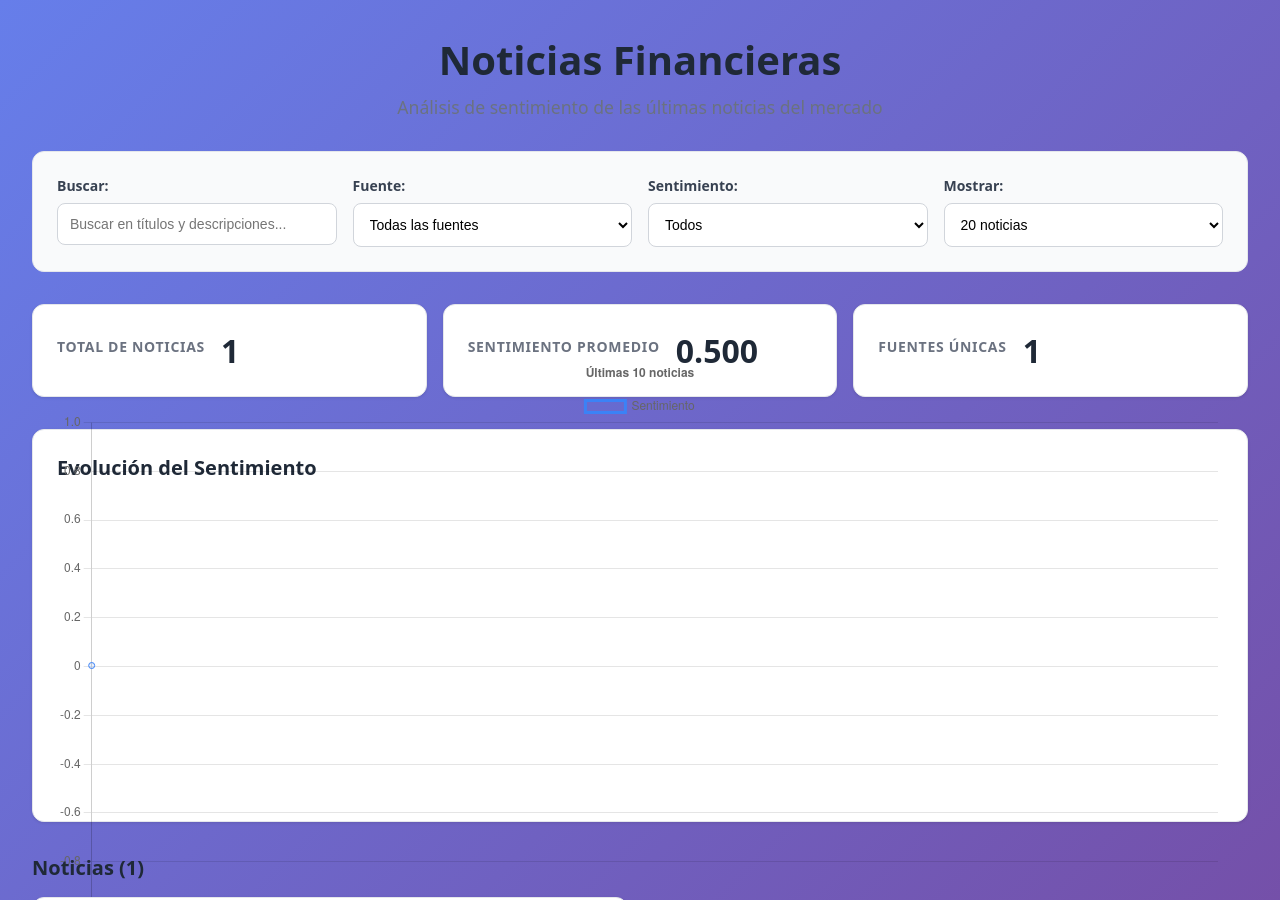
Test case: News Component › shows no results message when filters return empty
Type "NonExistentTerm" into the field with placeholder "Buscar en títulos y descripciones..." at x=197, y=224, box [57,203,336,245]
(page scrolled)
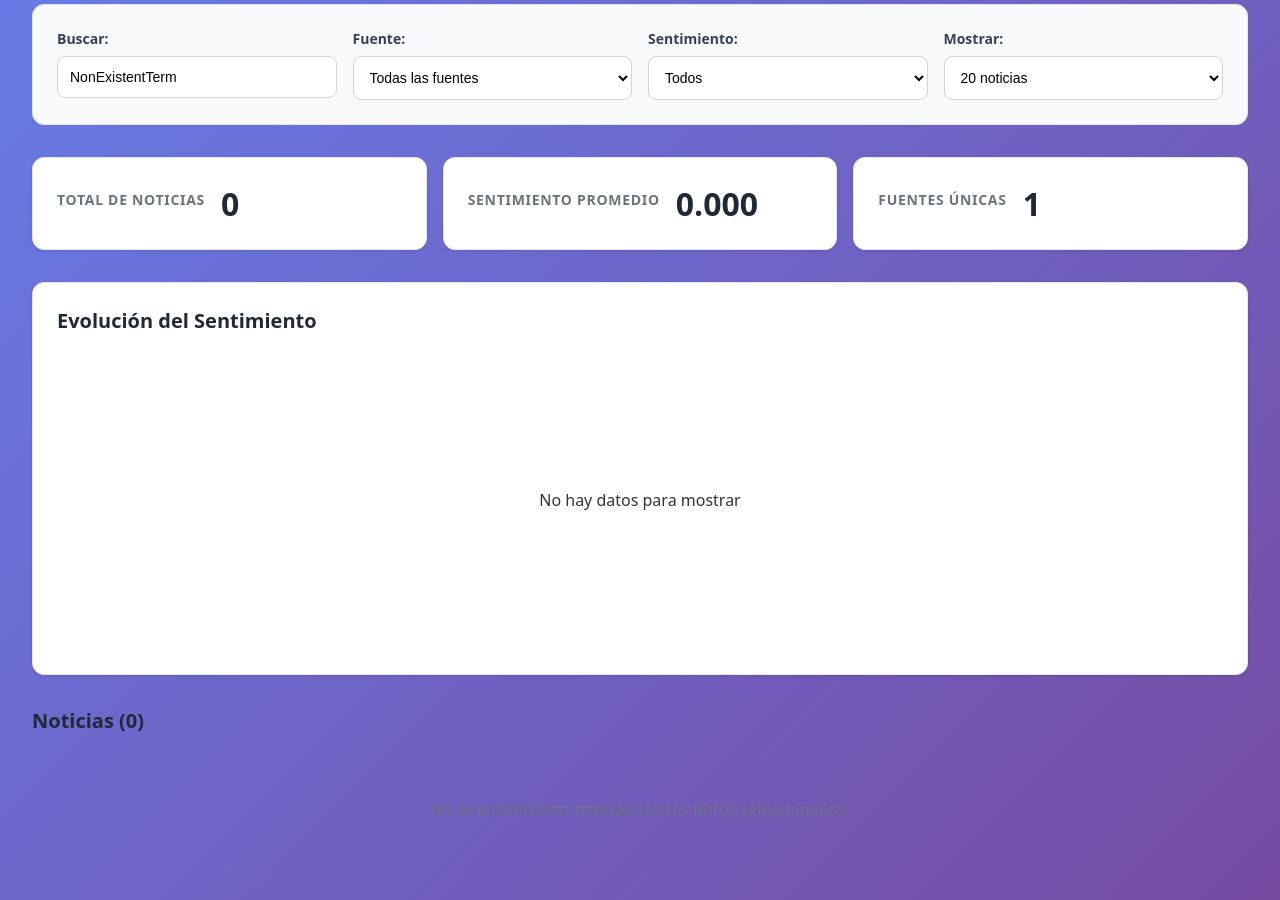
Expected: the text "No se encontraron noticias con los filtros seleccionados." is shown, [430,798,850,820]
